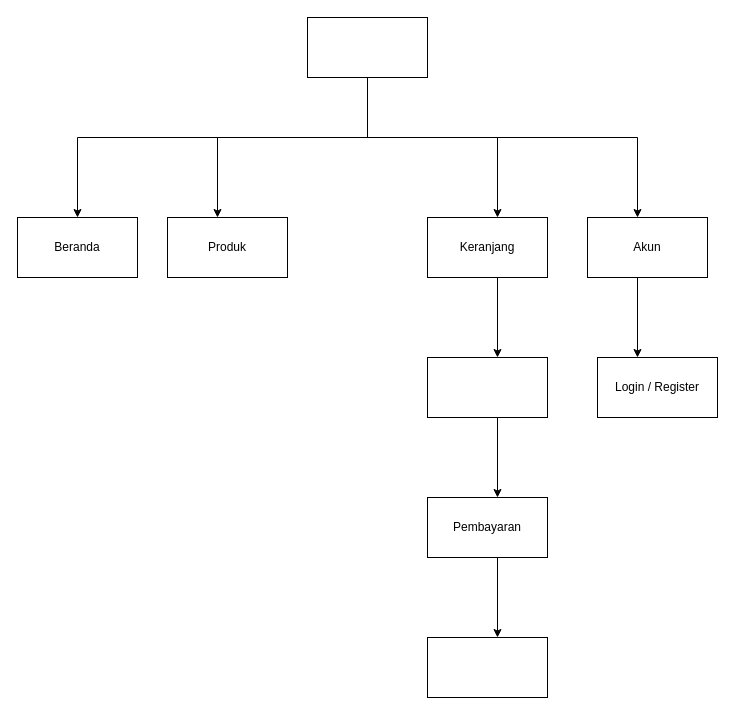
The diagram is 735 pixels wide and 715 high, and some of its shapes have lost their labels. Each missing label, with the centre of its shape:
CheckOut: (487,387)
HOMEPAGE: (367,47)
Status Pemesanan: (487,667)
